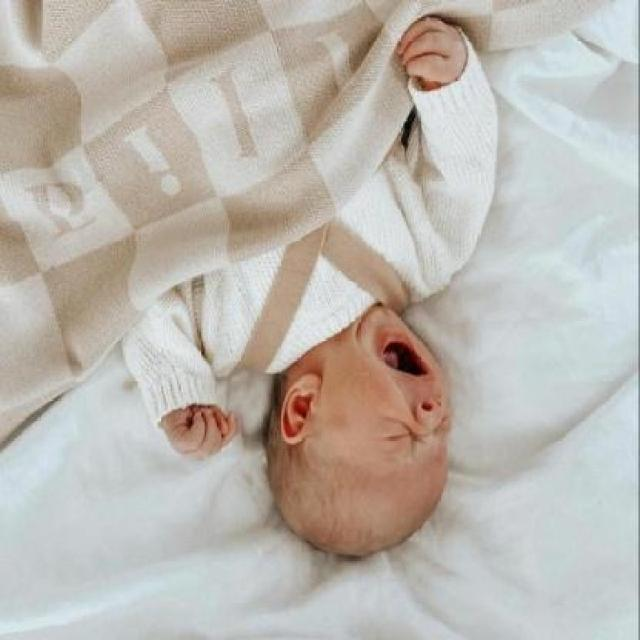baby: (122, 15, 496, 563)
